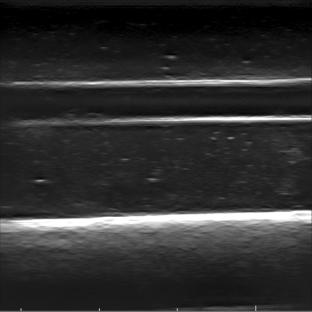vessel: (5, 77, 308, 128)
